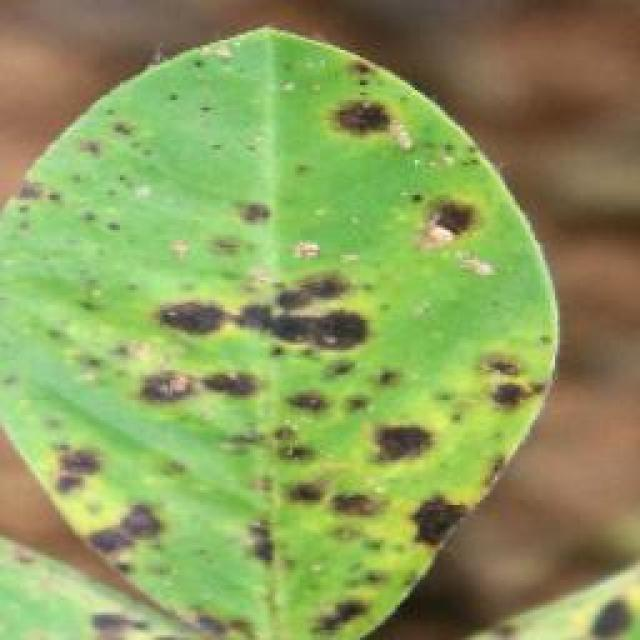Yellowish: (16, 61, 564, 640)
